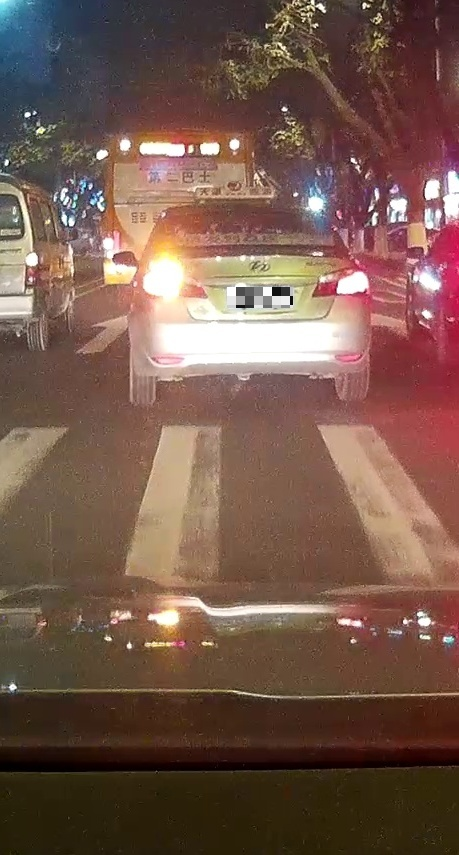L_light: (141, 253, 208, 300)
R_light: (310, 257, 370, 297)
T_light: (232, 211, 264, 220)
night-left: (133, 200, 370, 405)
plate_1: (227, 287, 293, 308)
